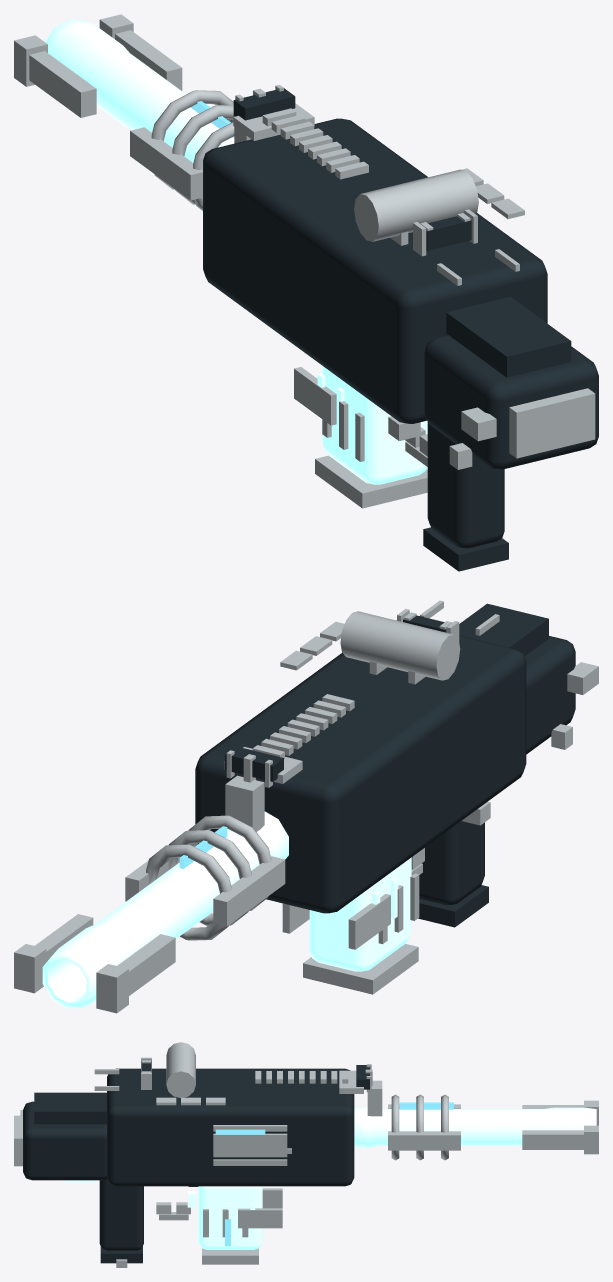
The model's file is weapon-6.glb.
The picture shows the model from 3 angles, top to bottom: view 1: azimuth 30°, elevation 25°; view 2: azimuth 150°, elevation 25°; view 3: azimuth 270°, elevation 25°; orthographic projection. The views are drawn at different scales.
Visible parts, largest first — view 1: WorldBatch0, WorldBatch2, WorldBatch1; view 2: WorldBatch0, WorldBatch2, WorldBatch1; view 3: WorldBatch0, WorldBatch2, WorldBatch1, WorldBatch3.
Part boxes in pixels (box(x1,y1,x2,y2)): WorldBatch0: box(203, 88, 598, 571); WorldBatch2: box(14, 14, 595, 508); WorldBatch1: box(45, 19, 427, 484); WorldBatch0: box(195, 603, 575, 927); WorldBatch2: box(14, 600, 598, 1013); WorldBatch1: box(42, 811, 411, 1008); WorldBatch0: box(23, 1061, 369, 1263); WorldBatch2: box(14, 1042, 598, 1267); WorldBatch1: box(65, 1107, 596, 1249); WorldBatch3: box(215, 1102, 453, 1246).
Size of the model in its own units: 0.228 by 0.452 by 1.18.
